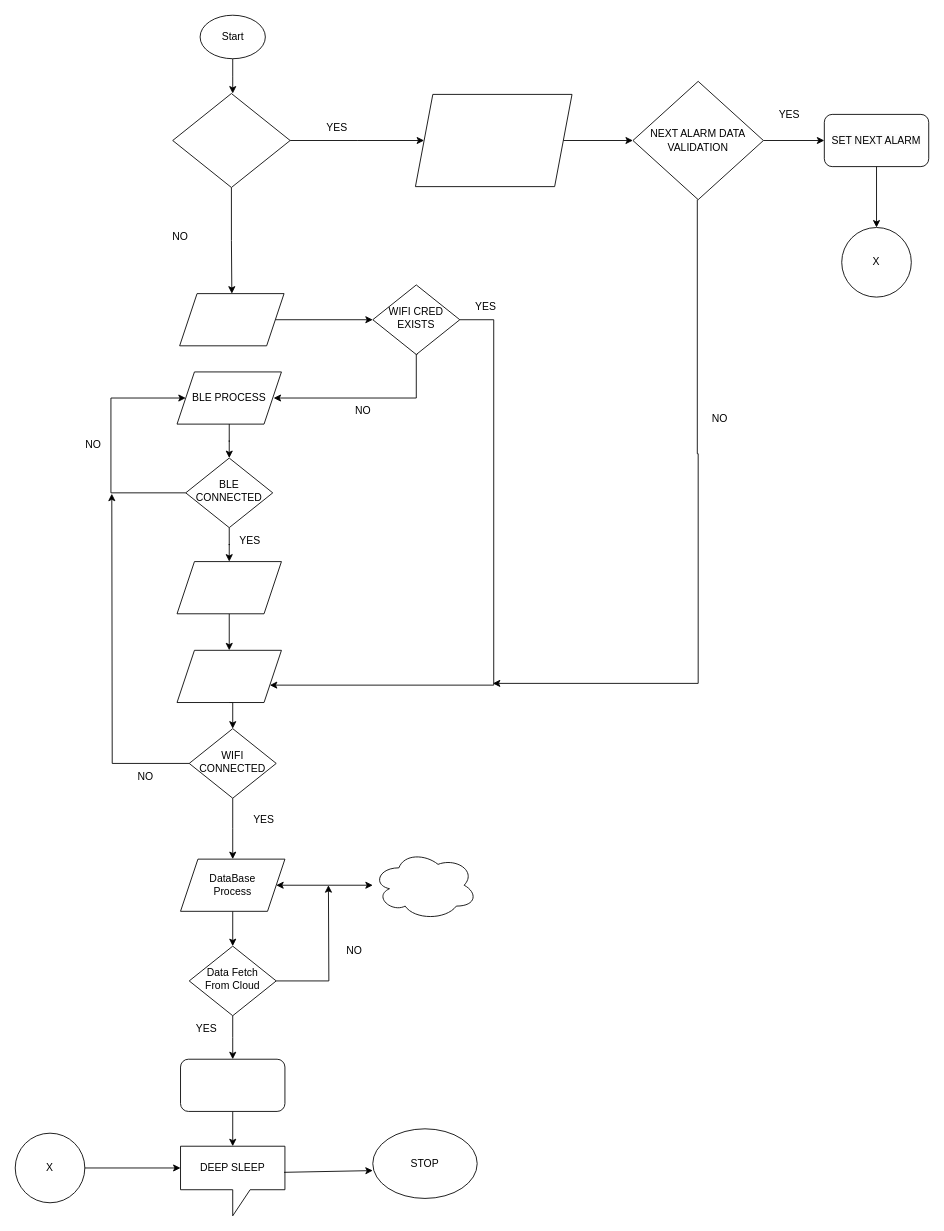
The diagram is 944 pixels wide and 1231 high, and some of its shapes have lost their labels. Each missing label, with the centre of its shape:
ALARM TRIGGERING PROCESS: the point at 493,140
BLE-APP PROCESS: the point at 228,587
CLOUD /SERVER: the point at 424,885
IS DEEP SLEEP WAKEUP?: the point at 231,140
NVS Read: the point at 231,319
SET ALARM, RTC, WAKEUP: the point at 232,1084
WIFI PROCESS: the point at 228,676
